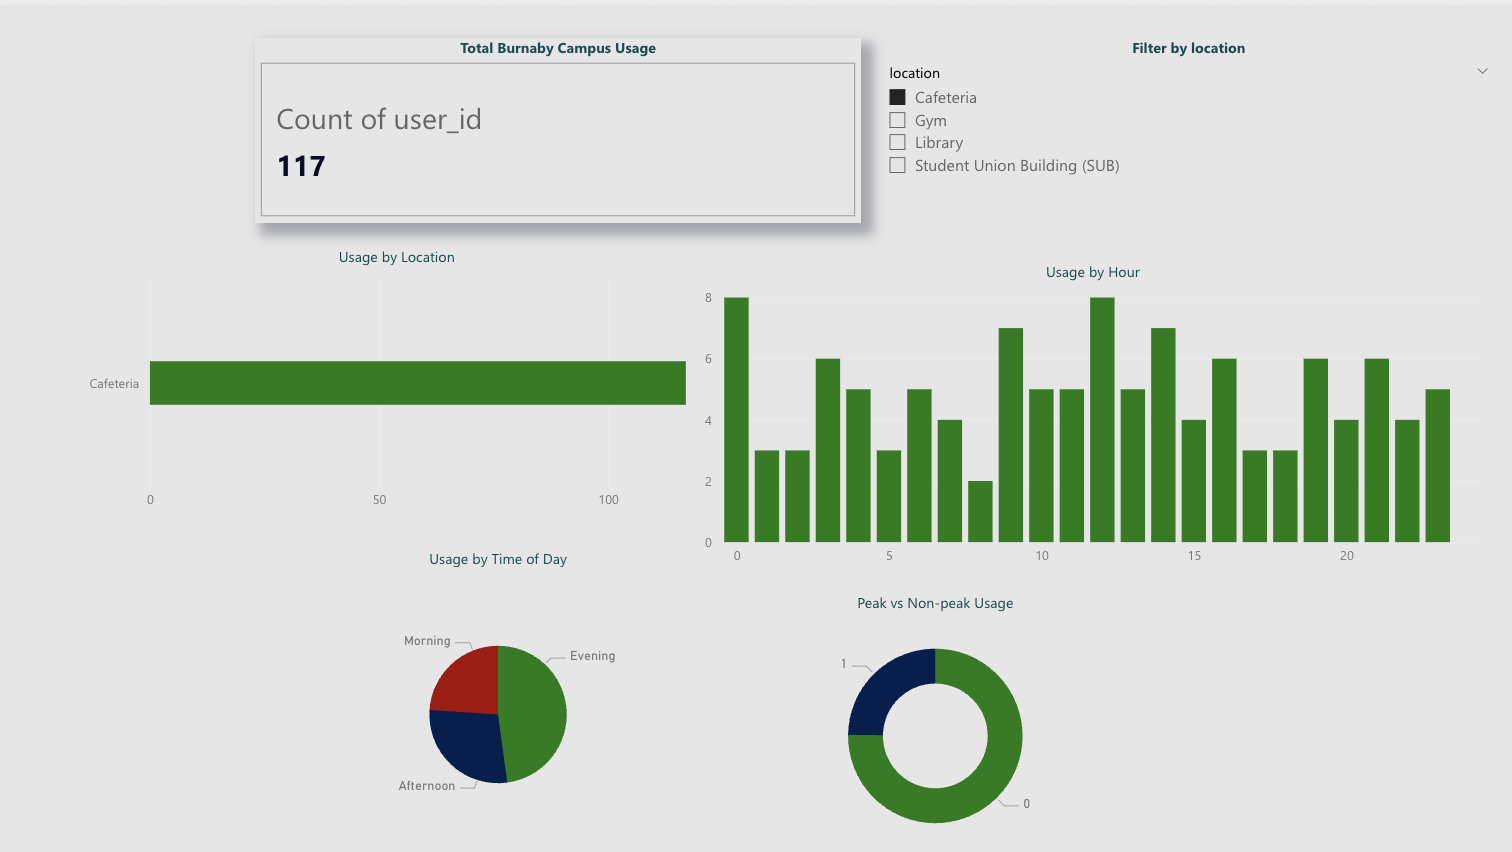

The dashboard page shown, as its layout file describes it:
{"tool":"powerbi","page":{"name":"Page 1","canvas":[1280,720],"ordinal":0},"visuals":[{"type":"barChart","title":"Usage by Location","fields":{"Category":["cleaned_usage.location"],"Y":["CountNonNull(cleaned_usage.user_id)"]},"box":[70.7,202.4,536.4,229.7],"z":0},{"type":"cardVisual","title":"Total Burnaby Campus Usage","fields":{"Data":["CountNonNull(cleaned_usage.user_id)"]},"box":[220,27.3,509.1,155.8],"z":1000},{"type":"columnChart","title":"Usage by Hour","fields":{"Category":["cleaned_usage.hour"],"Y":["CountNonNull(cleaned_usage.user_id)"]},"box":[592.6,215.2,661.7,263.4],"z":2000},{"type":"pieChart","title":"Usage by Time of Day","fields":{"Category":["cleaned_usage.time_of_day"],"Y":["CountNonNull(cleaned_usage.user_id)"]},"box":[321.2,456.1,207.2,263.4],"z":3000},{"type":"donutChart","title":"Peak vs Non-peak Usage","fields":{"Category":["cleaned_usage.is_peak"],"Y":["CountNonNull(cleaned_usage.user_id)"]},"box":[640.8,494.7,300.3,224.8],"z":4000},{"type":"slicer","title":"Filter by location","fields":{"Values":["cleaned_usage.location"]},"box":[740.4,27.3,528.4,168.6],"z":5000}]}

Visuals, with their boxes in screenshot pixels (x1, y1, x2, y2), scaled from the page's 1280x720 canvas onto the 1512x852 screenshot:
"Usage by Location" barChart: <box>84,240,717,511</box>
"Total Burnaby Campus Usage" cardVisual: <box>260,32,861,217</box>
"Usage by Hour" columnChart: <box>700,255,1482,566</box>
"Usage by Time of Day" pieChart: <box>379,540,624,851</box>
"Peak vs Non-peak Usage" donutChart: <box>757,585,1112,851</box>
"Filter by location" slicer: <box>875,32,1499,232</box>
